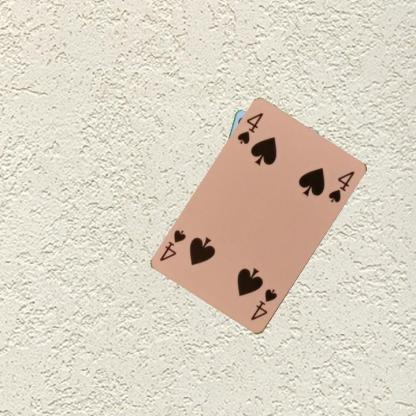4s: (248, 286, 278, 322), (235, 110, 264, 146)
